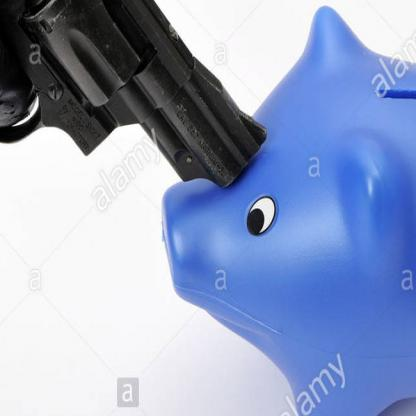gun: (0, 0, 277, 201)
